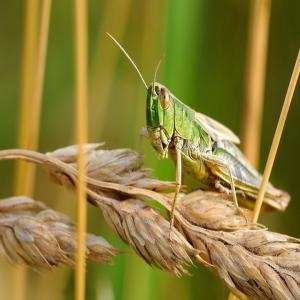locust: (125, 42, 281, 197)
